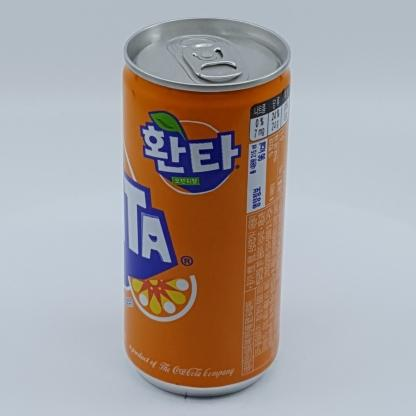-------215ML: (123, 17, 291, 397)
